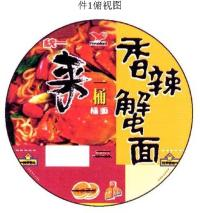instant_noodle: (4, 19, 193, 207)
